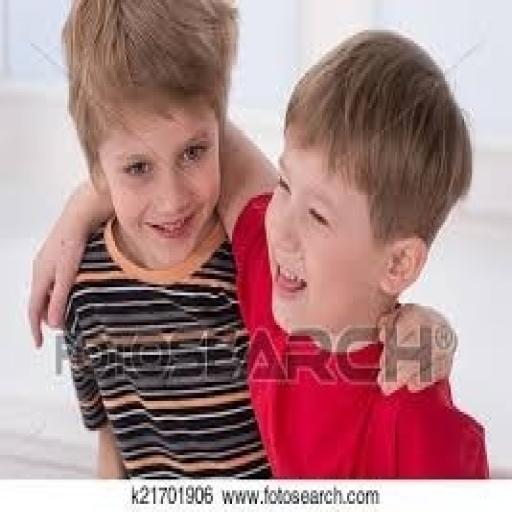laughing: (25, 0, 489, 477)
